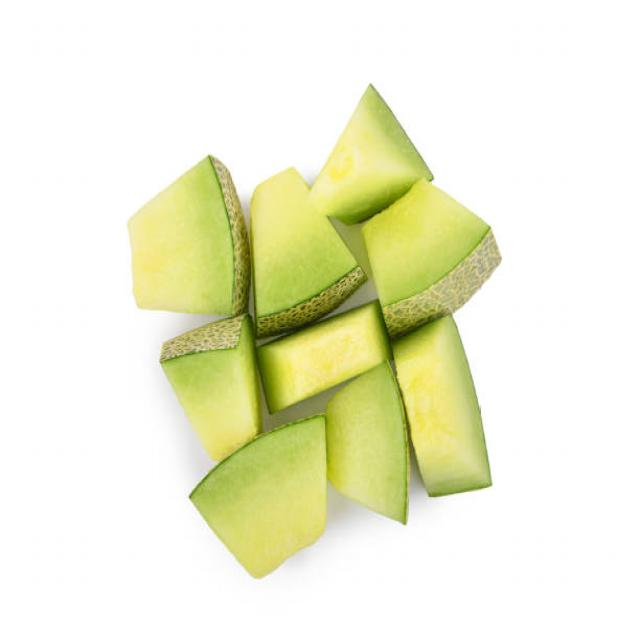melon: (124, 151, 245, 314), (373, 190, 504, 316), (253, 183, 355, 338), (160, 317, 258, 451)
